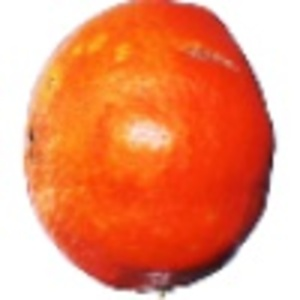tangerina: (20, 1, 277, 300)
